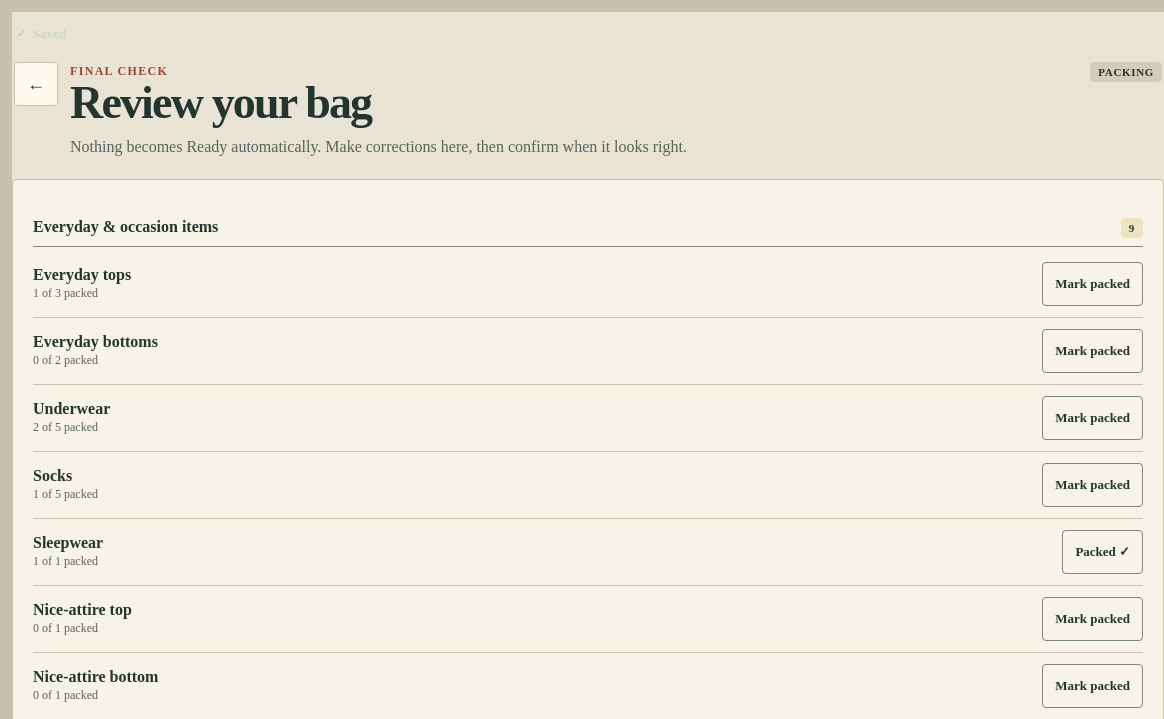
Test: corrections on the review › ignores a second tap while a change is saving, and a failed change leaves the row as it was
What coordinates should you click on to do the following:
click the button named "Mark packed Everyday tops"
I would click on:
 (1093, 284)
Its box is [1042,262,1143,306].
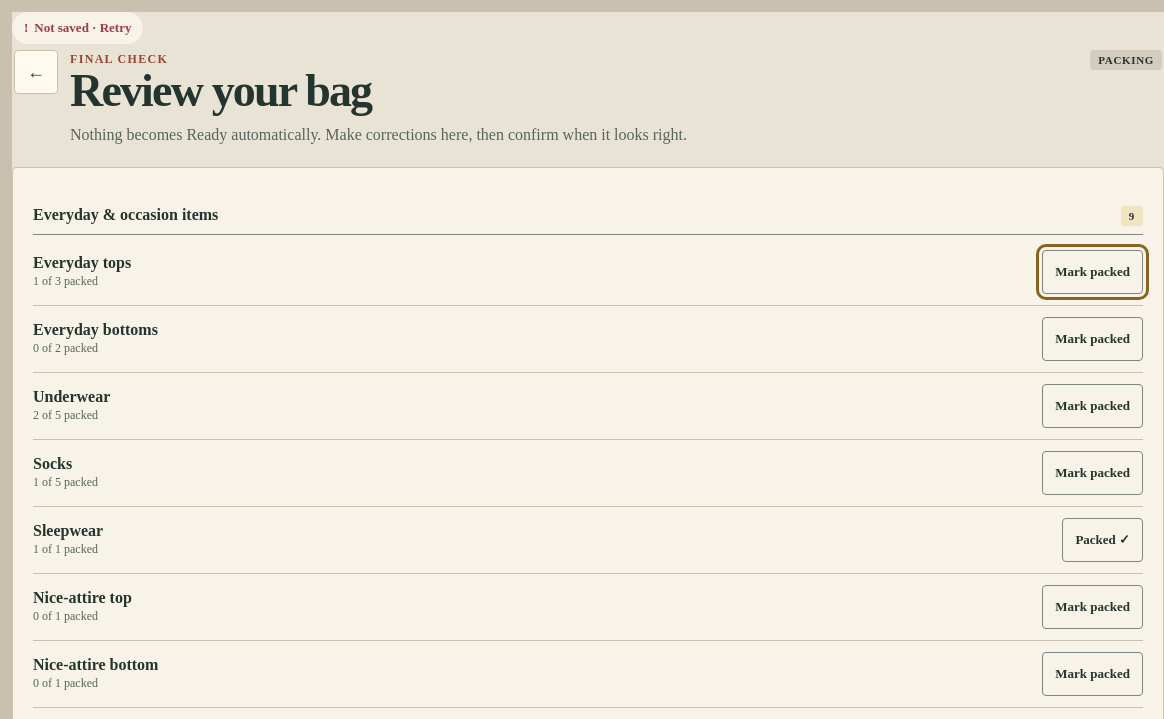
Expected: the button "! Not saved · Retry" is shown, [12,12,144,44]
